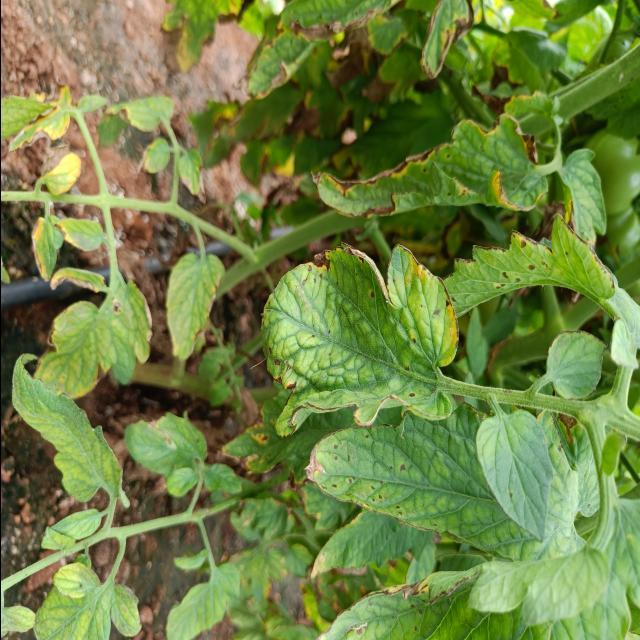Tomato mosaic virus leaf: (256, 238, 460, 442), (302, 110, 548, 226), (292, 418, 468, 544), (444, 208, 618, 324), (313, 559, 477, 640)
